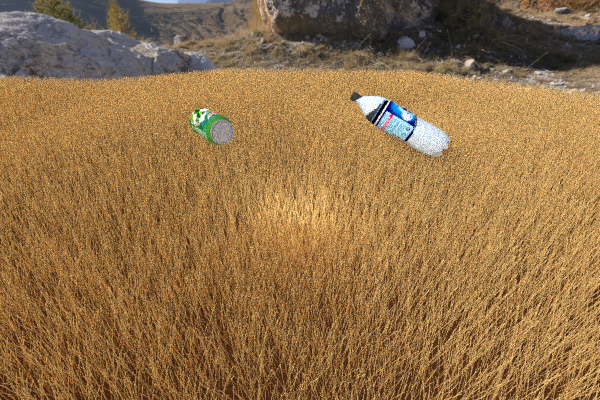bottle: (350, 91, 450, 157)
can: (189, 107, 233, 145)
